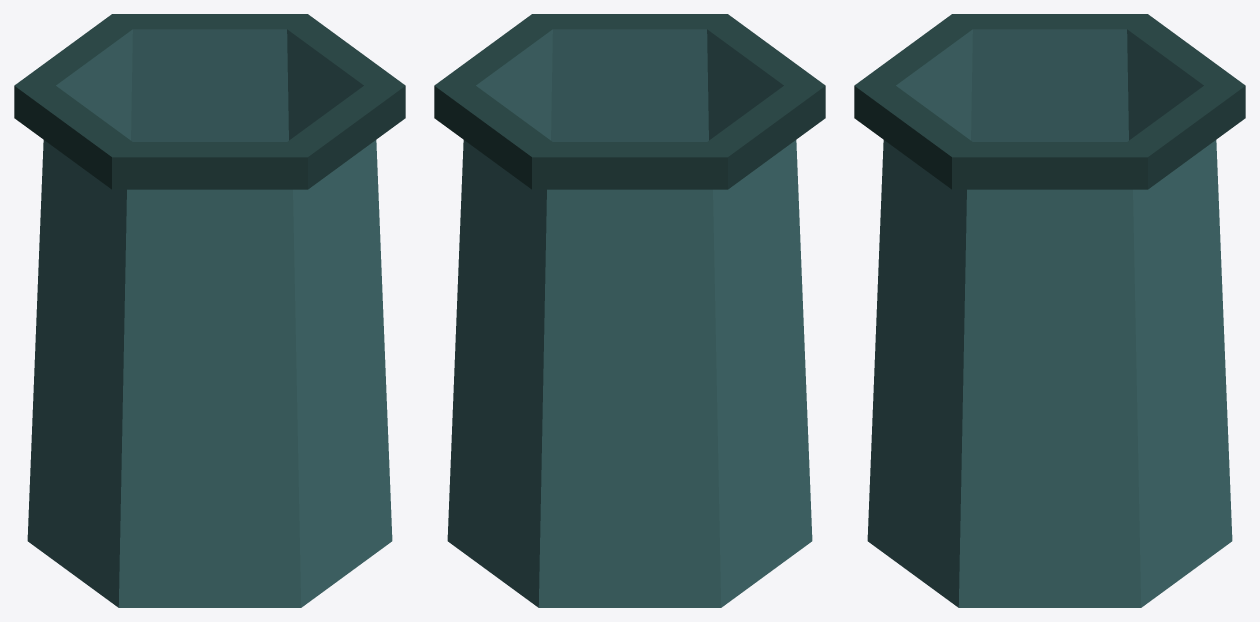
File: Road_Objects_Mini_Trash_Can.fbx
3 views of the same model, side by side, from view 1: azimuth 30°, elevation 25°; view 2: azimuth 150°, elevation 25°; view 3: azimuth 270°, elevation 25° (orthographic).
Parts seen in each view (by area): view 1: Road_Objects_Mini_Trash_Can; view 2: Road_Objects_Mini_Trash_Can; view 3: Road_Objects_Mini_Trash_Can.
Part boxes in pixels (box(x1,y1,x2,y2)): Road_Objects_Mini_Trash_Can: box(14, 14, 405, 607); Road_Objects_Mini_Trash_Can: box(434, 14, 825, 607); Road_Objects_Mini_Trash_Can: box(854, 14, 1245, 607).
Bounding box in the file's own units: 59.43 × 88.12 × 68.62.
